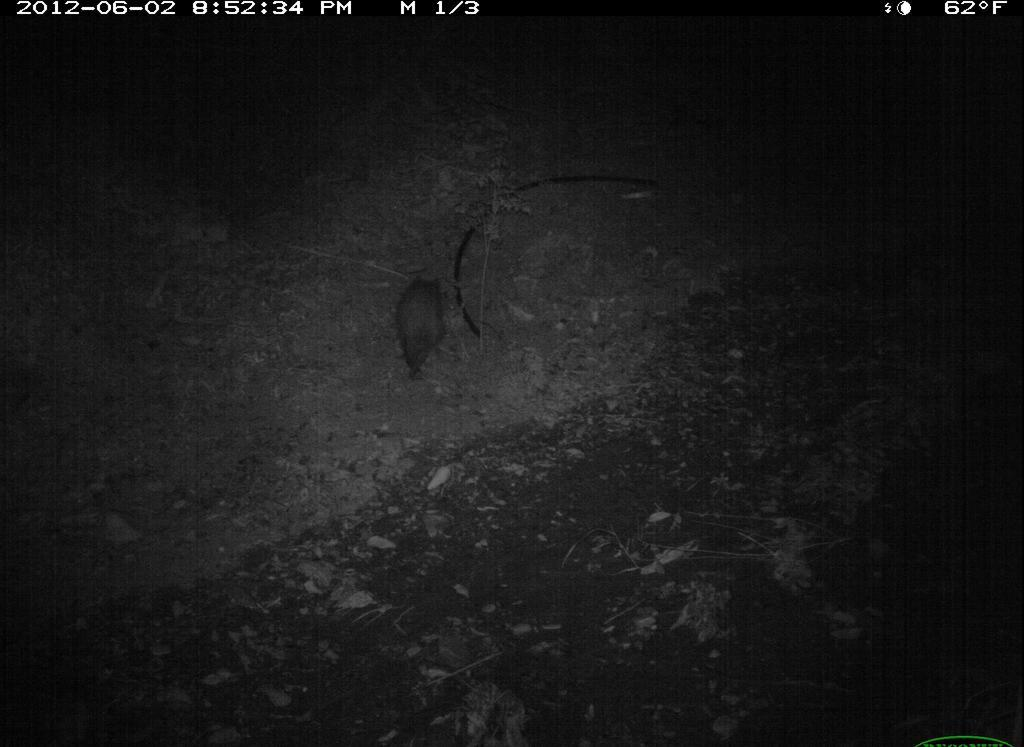opossum: (388, 267, 454, 378)
